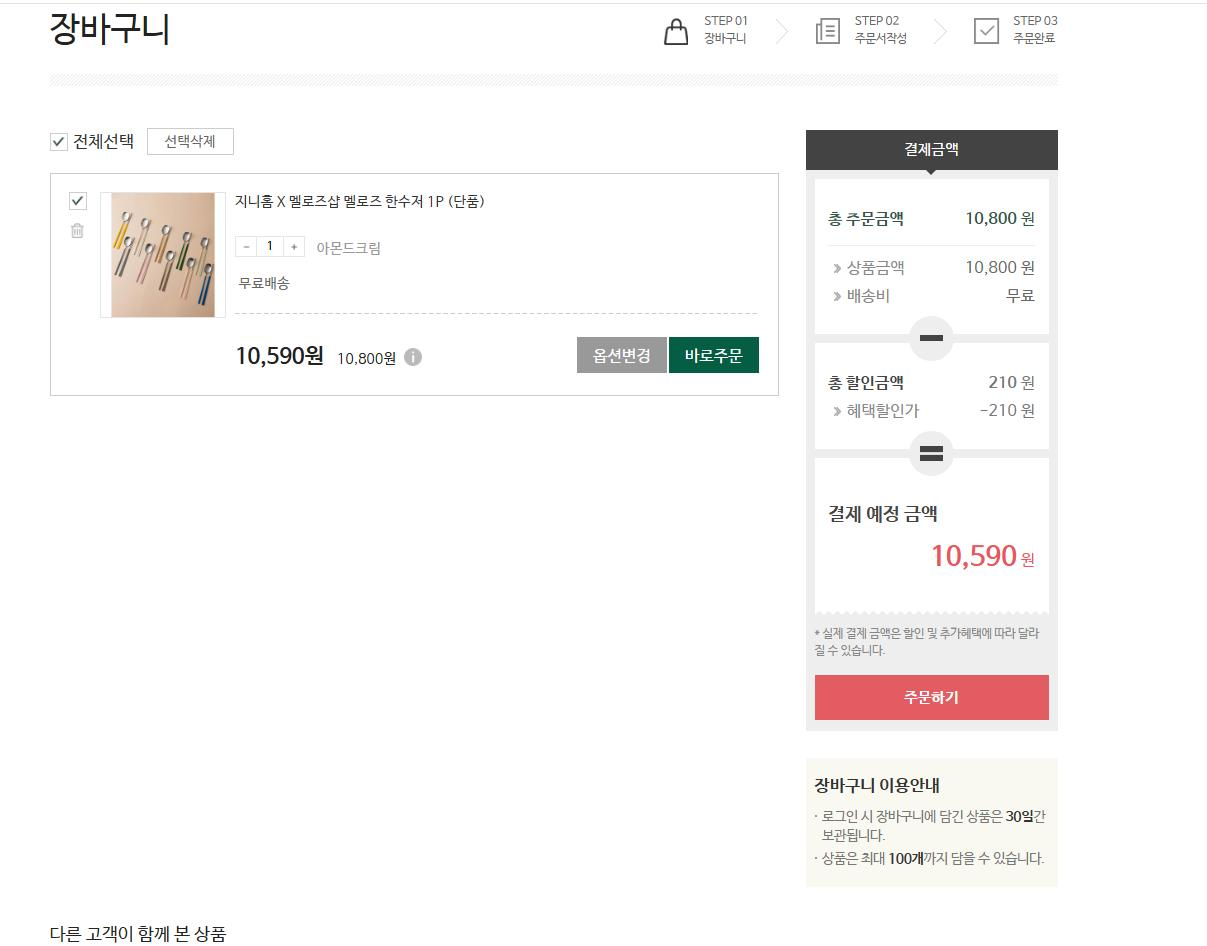button: (814, 673, 1051, 723), (670, 337, 760, 373), (579, 338, 667, 374), (150, 127, 235, 155)
checkbox: (47, 123, 136, 160), (64, 185, 95, 244)
popup: (804, 757, 1061, 888)
